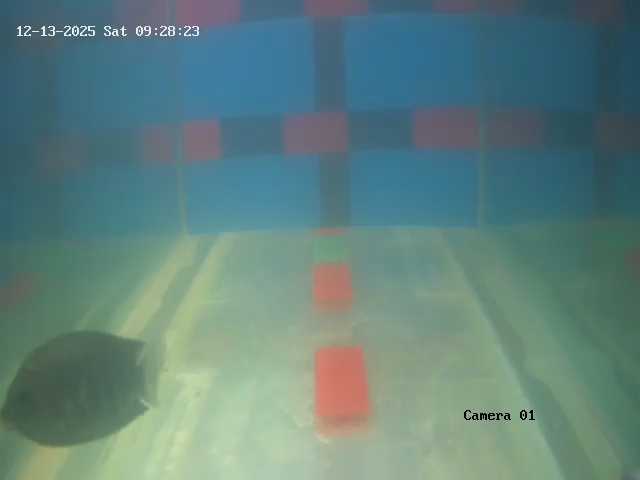fish: (7, 329, 155, 442)
